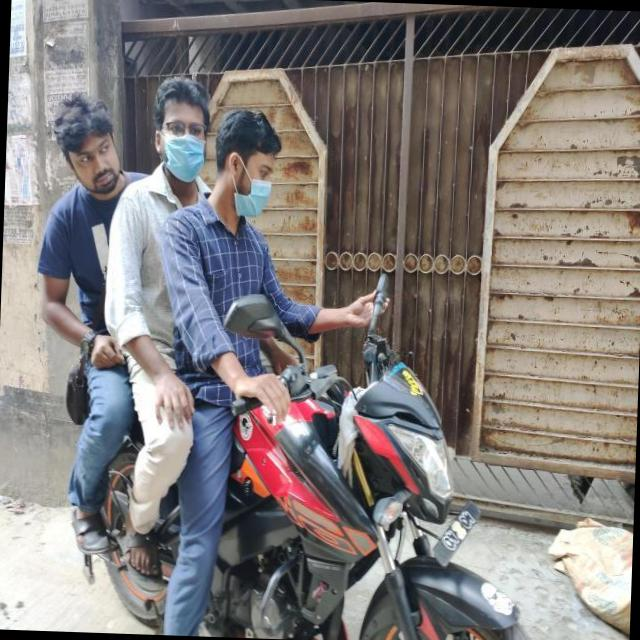motorcycle: (53, 329, 544, 640)
person: (23, 84, 138, 448), (166, 100, 282, 440), (94, 67, 213, 359)
rider_region: (22, 80, 551, 640)
